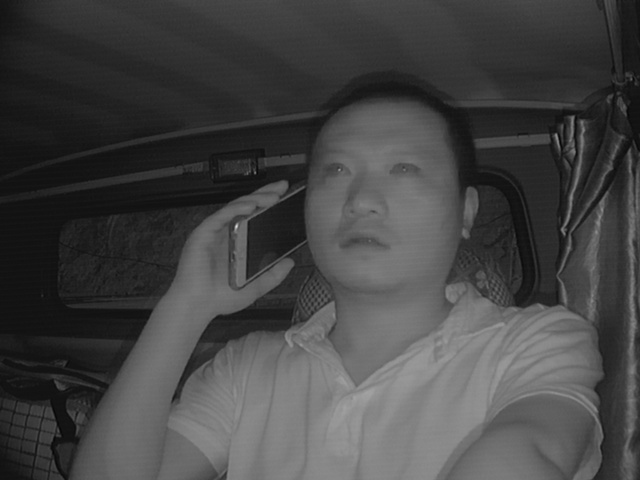hand: (177, 179, 295, 305)
